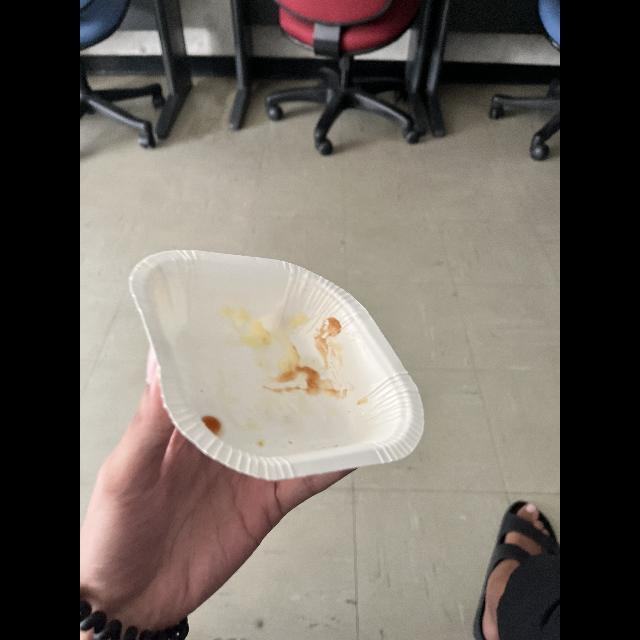cardboard_bowl: (123, 240, 427, 480)
